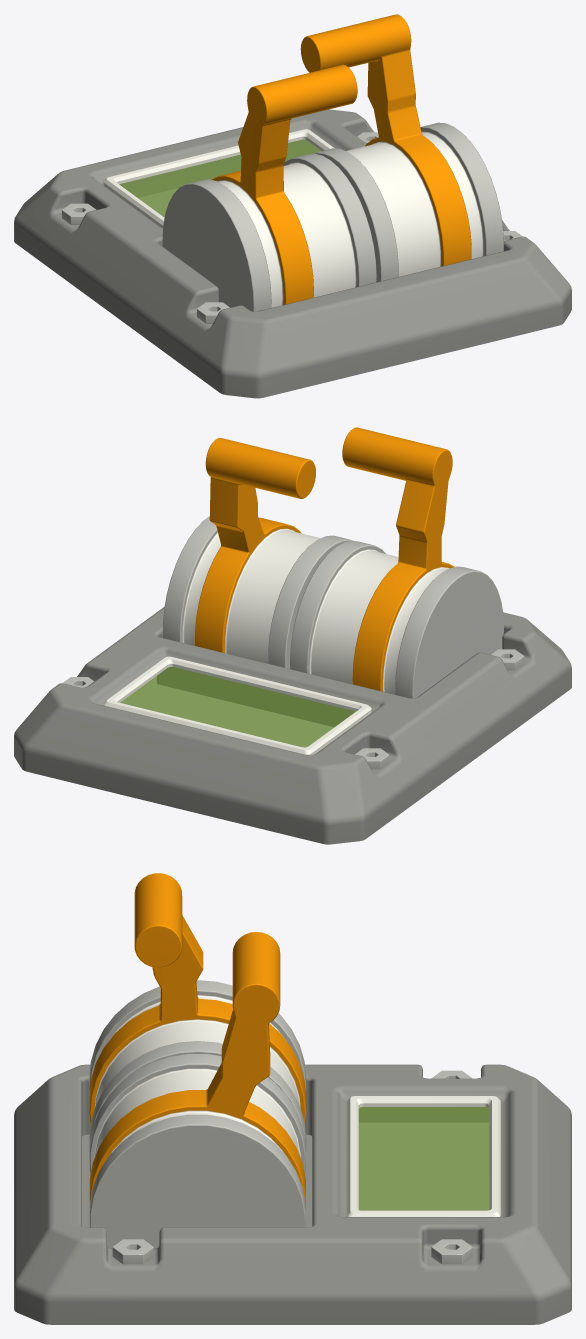
The model's file is control_panel_25.fbx.
3 renders of one model, top to bottom at view 1: azimuth 30°, elevation 25°; view 2: azimuth 150°, elevation 25°; view 3: azimuth 270°, elevation 25°, orthographic. The views are drawn at different scales.
Visible parts, largest first — view 1: control_panel_25; view 2: control_panel_25; view 3: control_panel_25.
Part boxes in pixels (<box>): control_panel_25: <box>14,14,571,398</box>; control_panel_25: <box>14,427,571,844</box>; control_panel_25: <box>14,873,571,1324</box>.
Size of the model in its own units: 30 by 22.31 by 35.
